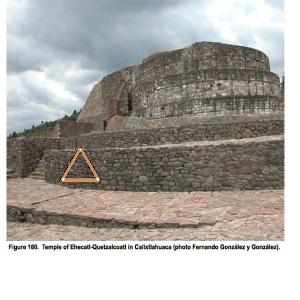triangle: (58, 145, 101, 186)
